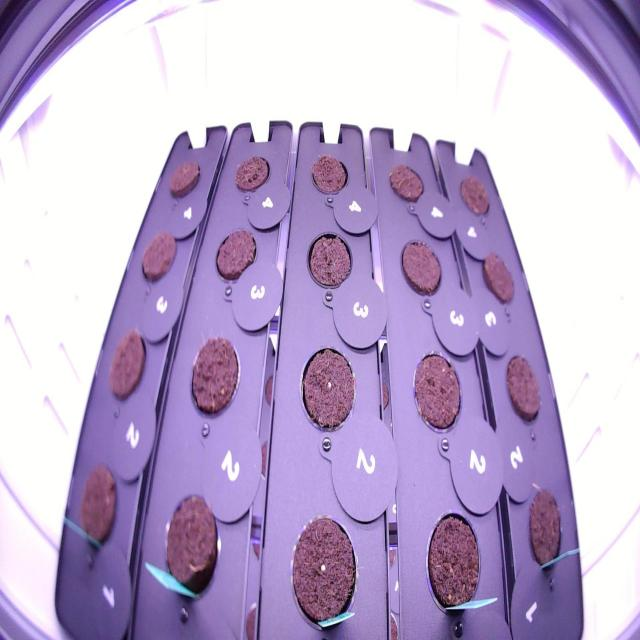pod: (287, 506, 361, 635), (158, 488, 225, 611), (418, 503, 485, 619), (296, 332, 359, 444), (408, 343, 467, 436), (186, 328, 242, 422), (521, 482, 566, 594), (75, 452, 121, 555), (499, 344, 546, 437), (303, 218, 355, 300), (105, 323, 148, 406), (394, 230, 444, 301), (209, 219, 258, 285), (478, 244, 520, 315), (138, 223, 180, 289), (307, 146, 351, 203), (384, 155, 426, 212), (457, 167, 495, 225), (165, 151, 202, 205), (230, 148, 270, 196)
